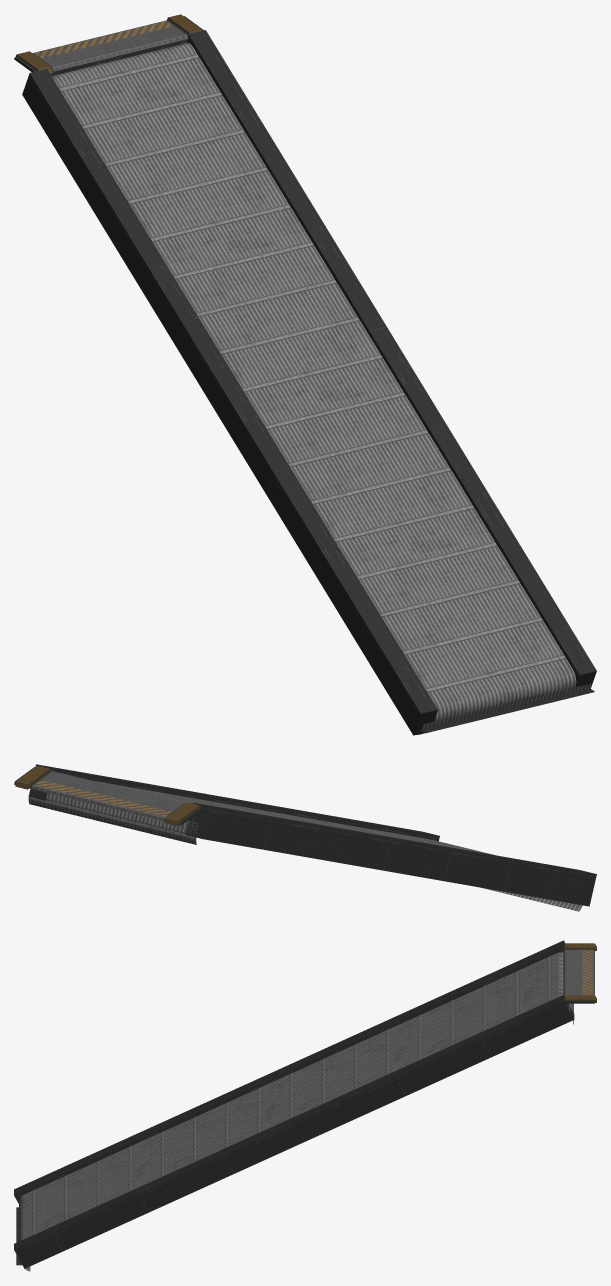
Rendered from Subway_Stairs_Escalator1.fbx.
3 renders of one model, top to bottom at view 1: azimuth 30°, elevation 25°; view 2: azimuth 150°, elevation 25°; view 3: azimuth 270°, elevation 25°, orthographic. The views are drawn at different scales.
Parts seen in each view (by area): view 1: polySurface140; view 2: polySurface140; view 3: polySurface140.
Boxes of the visible parts, box(x1,y1,x2,y2) form: polySurface140: box(14, 14, 596, 735); polySurface140: box(14, 764, 596, 911); polySurface140: box(14, 940, 596, 1271).
Bounding box in the file's own units: 104 × 218 × 424.
